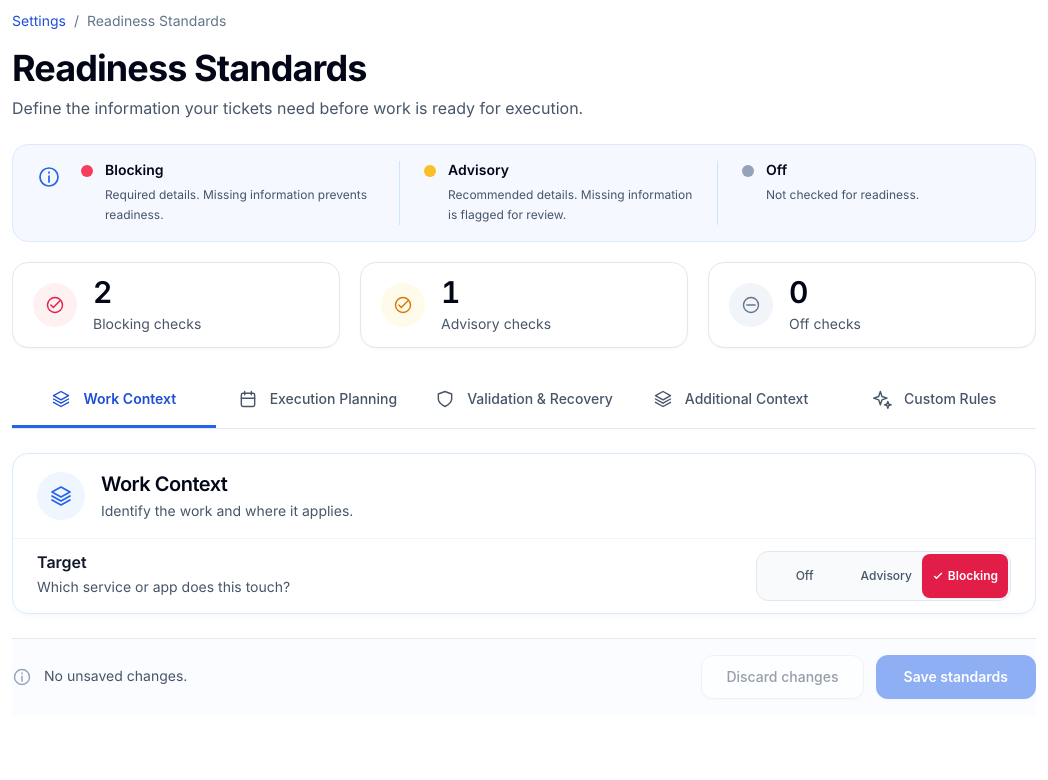
ChecklistSettingsPage › retains selections and displays a persistent error when a save fails, allowing retry
Click the tab "Validation & Recovery". click: (524, 400)
box: [419,372,629,428]
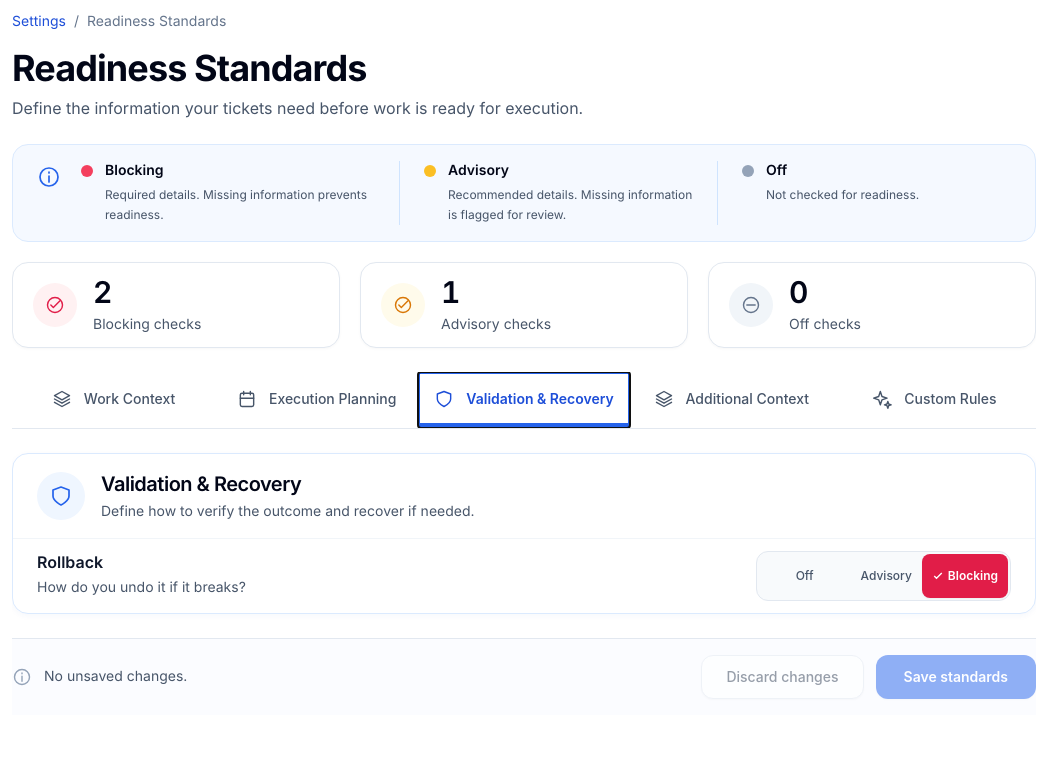
Now the text "Rollback" is shown, box [37,552,103,572]
Click the button "Off". click: (796, 576)
box: [758,554,834,598]
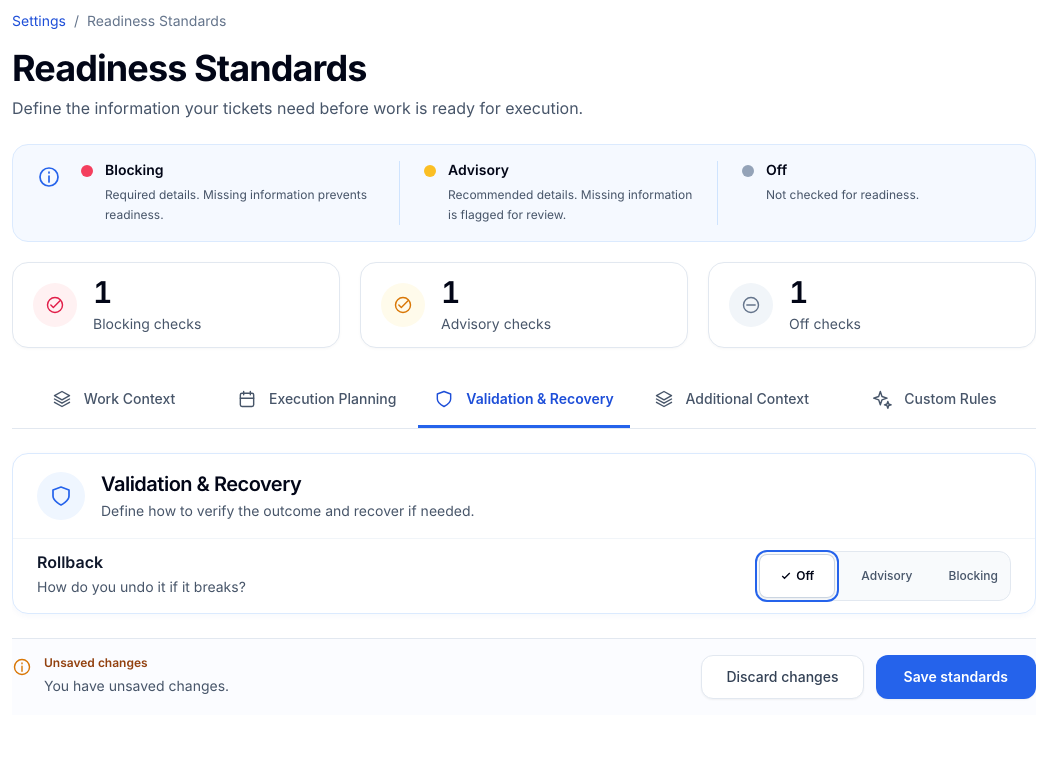
Click the button "Save standards". click: (956, 677)
box: [876,655,1036,699]
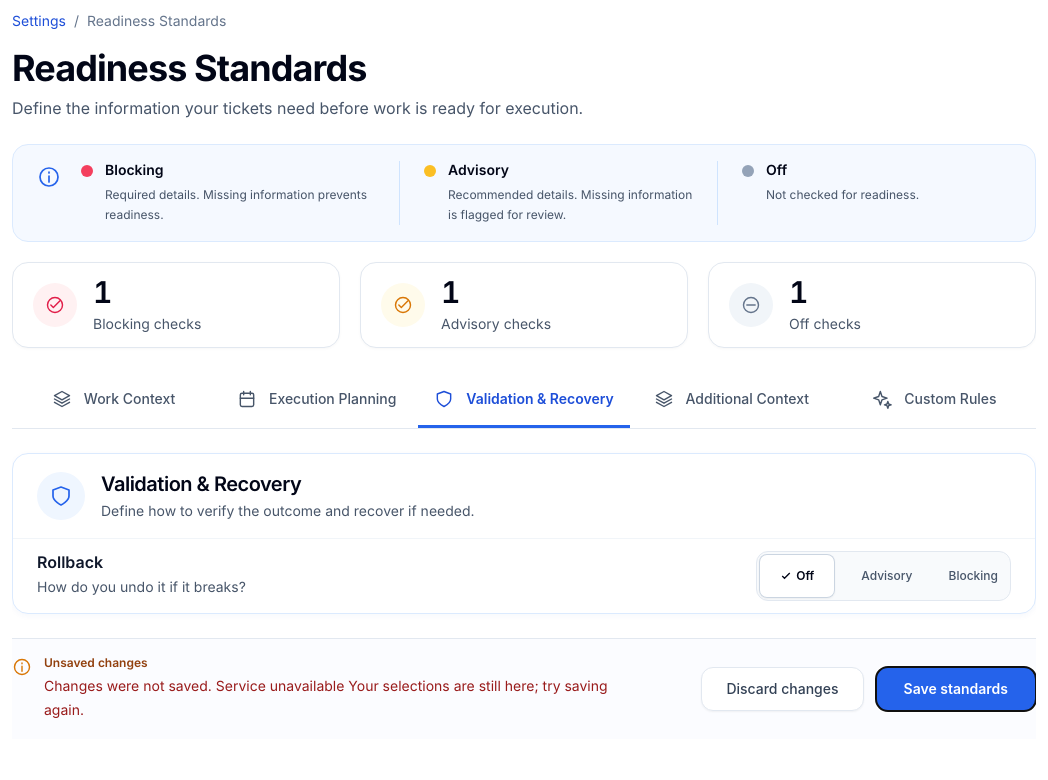
Now the message shows "Changes were not saved. Service unavailable", box [44,678,608,719]
Click the button "Save standards". click: (956, 689)
box: [876,667,1036,711]
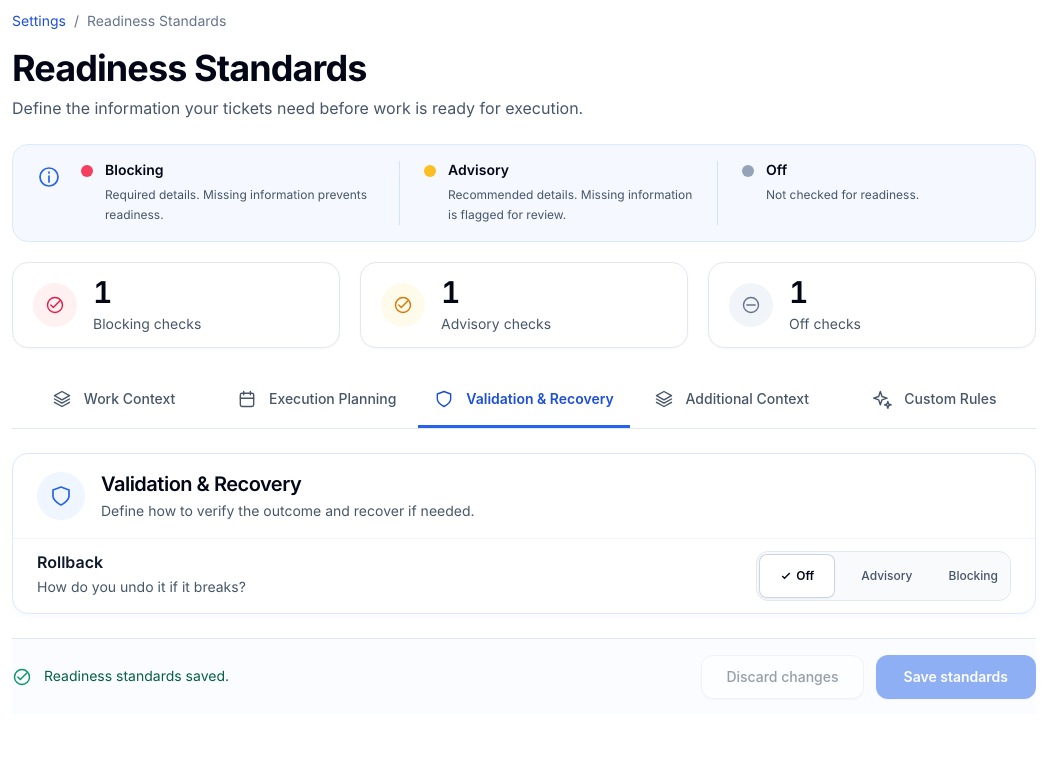
Now the text "Readiness standards saved." is shown, box [44,665,229,689]
